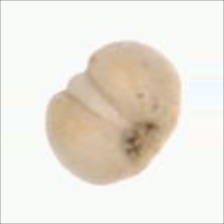L5: (59, 62, 129, 129), (121, 117, 167, 170)
L6: (41, 39, 187, 187)
